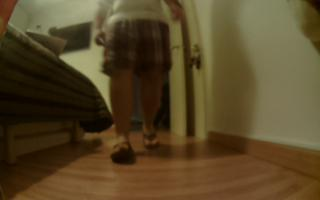person: (92, 1, 187, 167)
